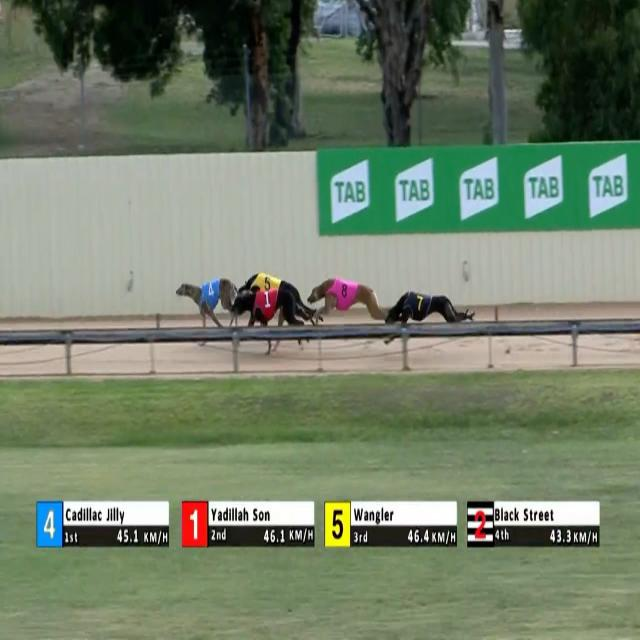dog_eight: (337, 279, 352, 308)
dog_five: (260, 274, 278, 294)
dog_four: (201, 280, 220, 310)
dog_one: (256, 288, 280, 317)
dog_seven: (408, 291, 430, 318)
rail: (0, 319, 640, 347)
